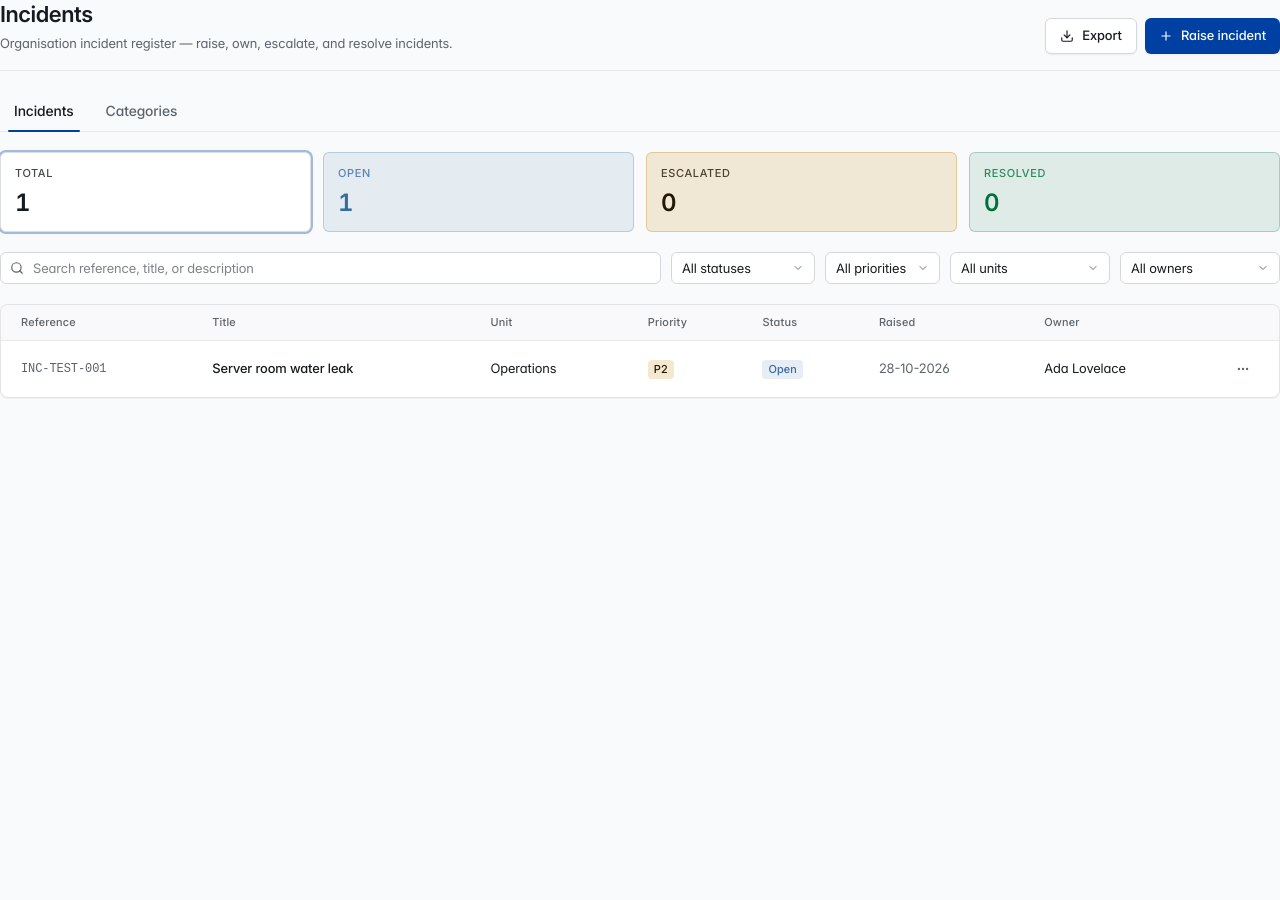
IncidentsListPage › opens details from row actions with lifecycle controls
Expected: the text "Server room water leak" is shown, [196,341,474,397]
Click the button named "actions for server room water leak" at (1243, 369), box [1227,353,1259,385]
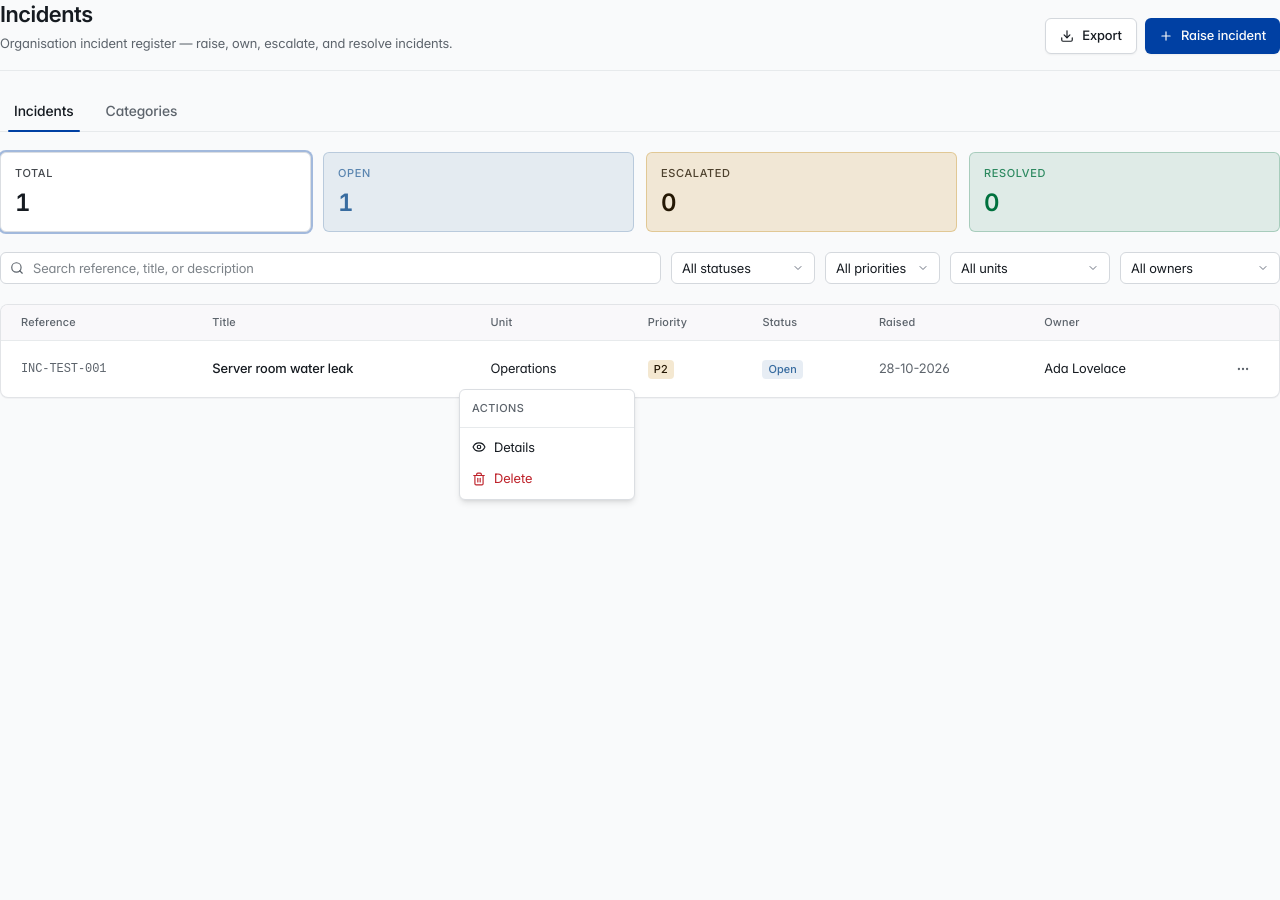
Click the menu item "Details" at (503, 446), box [472,438,535,454]
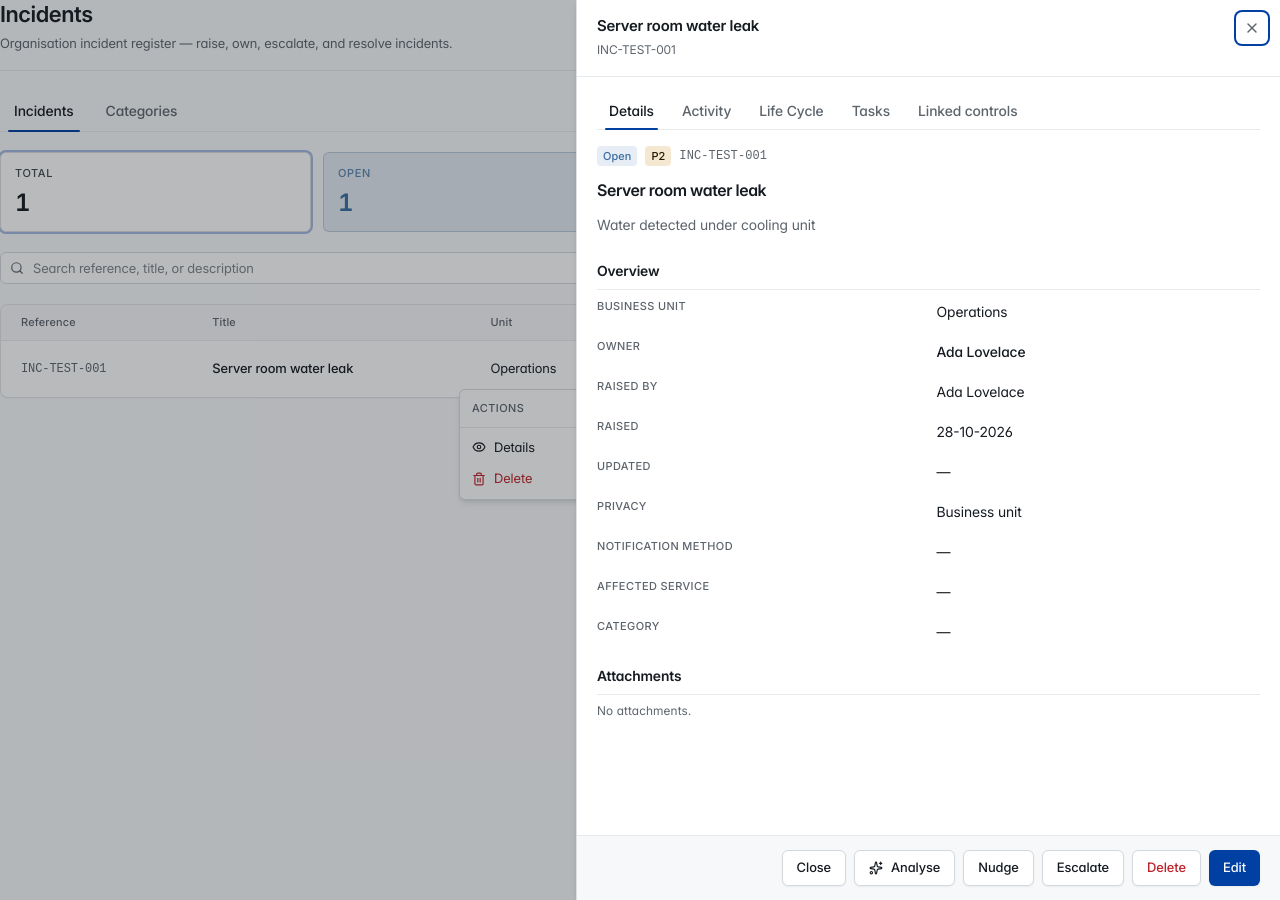
Now the button "Edit" is shown, box [1209,850,1260,886]
Now the button "Escalate" is shown, box [1042,850,1124,886]
Now the button "Nudge" is shown, box [963,850,1034,886]
